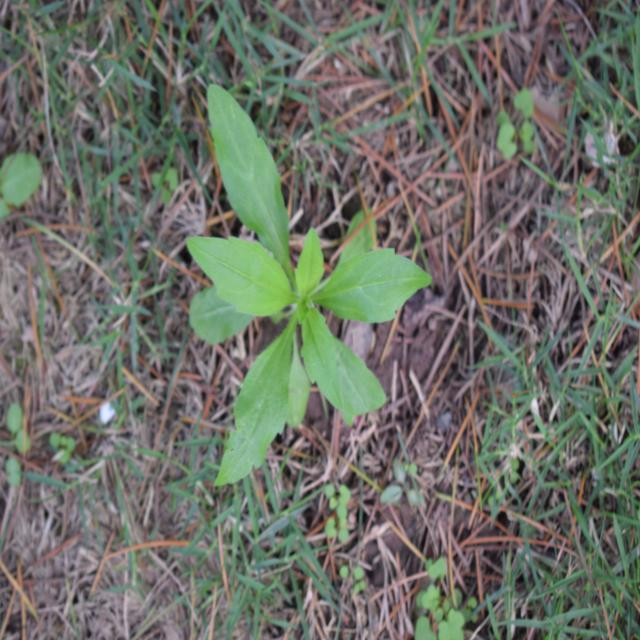horseweed: (192, 96, 420, 459)
